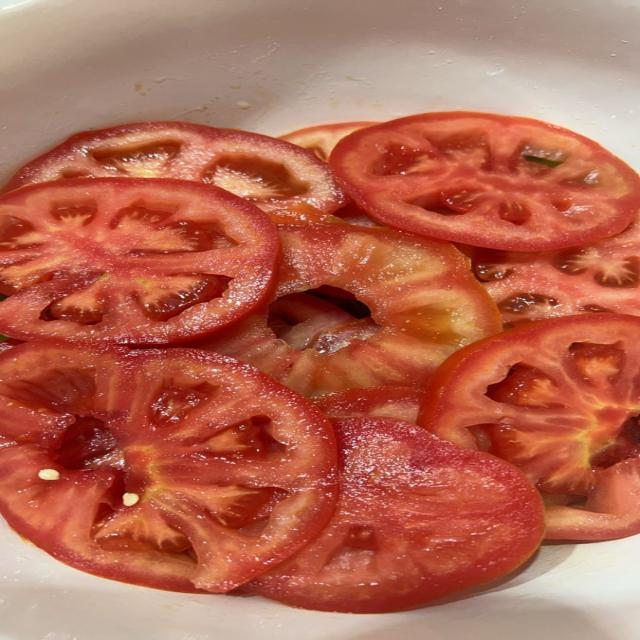sliced tomatoe: (0, 341, 335, 592), (242, 418, 543, 613), (200, 226, 500, 396), (419, 314, 639, 539), (0, 179, 278, 343), (330, 112, 639, 251), (3, 122, 344, 223), (474, 221, 639, 325), (313, 386, 423, 423), (281, 122, 377, 161), (280, 122, 377, 160), (335, 203, 383, 227)
